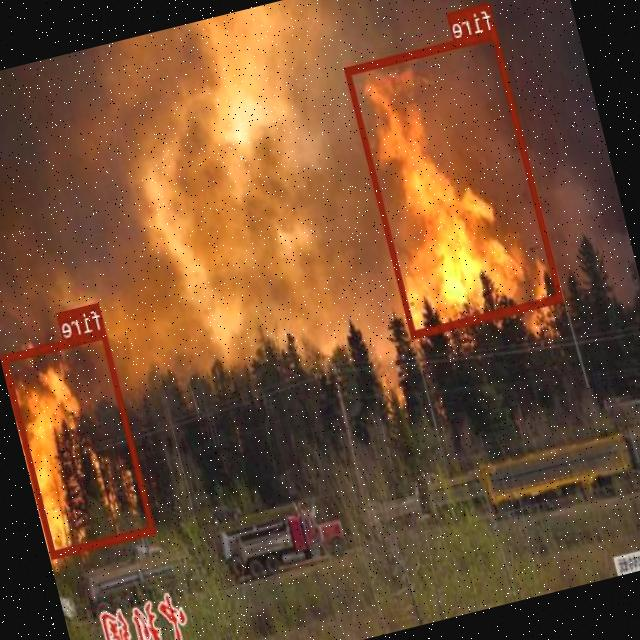fire: (344, 29, 564, 336), (1, 328, 156, 558)
